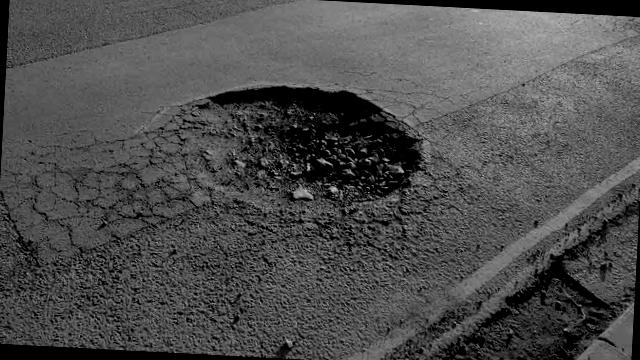Pothole: (145, 71, 456, 240)
